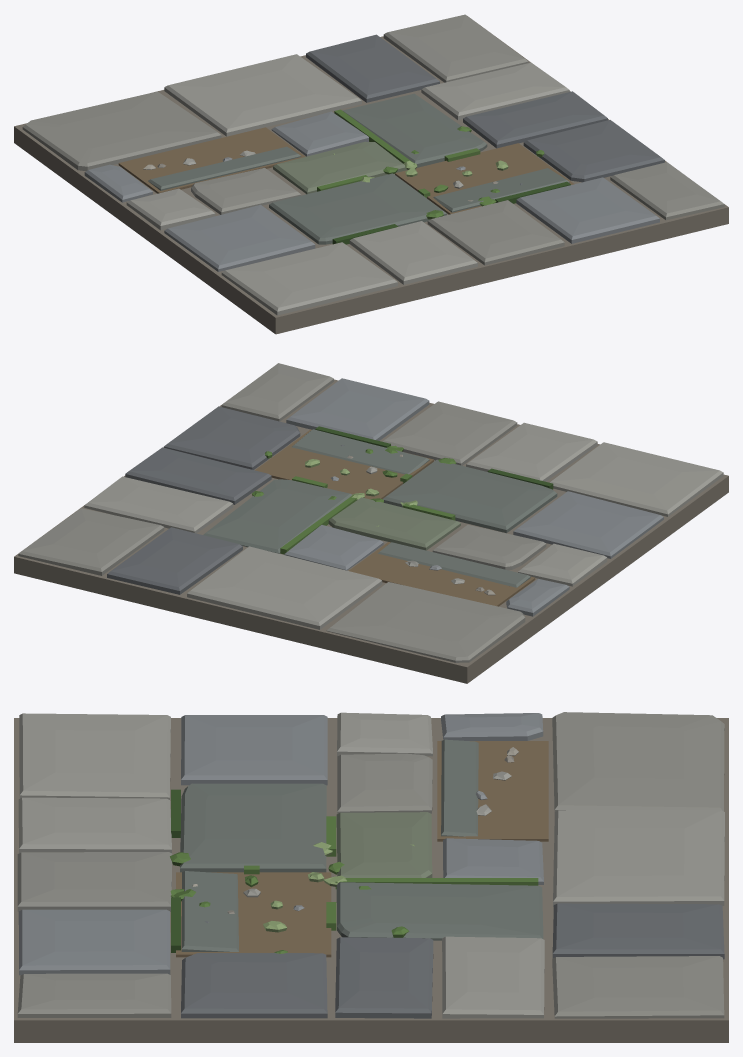
The model's file is SM_LPD_Floor_PavingFlagstoneWorn_01.fbx.
The picture shows the model from 3 angles, top to bottom: view 1: azimuth 30°, elevation 25°; view 2: azimuth 150°, elevation 25°; view 3: azimuth 270°, elevation 25°; orthographic projection. The views are drawn at different scales.
Parts seen in each view (by area): view 1: SM_LPD_Floor_PavingFlagstoneWorn_01; view 2: SM_LPD_Floor_PavingFlagstoneWorn_01; view 3: SM_LPD_Floor_PavingFlagstoneWorn_01.
Boxes of the visible parts, bbox=[...] form: SM_LPD_Floor_PavingFlagstoneWorn_01: bbox=[14, 14, 728, 334]; SM_LPD_Floor_PavingFlagstoneWorn_01: bbox=[14, 363, 728, 683]; SM_LPD_Floor_PavingFlagstoneWorn_01: bbox=[14, 712, 728, 1042].
Bounding box in the file's own units: 4 × 0.2 × 4.
